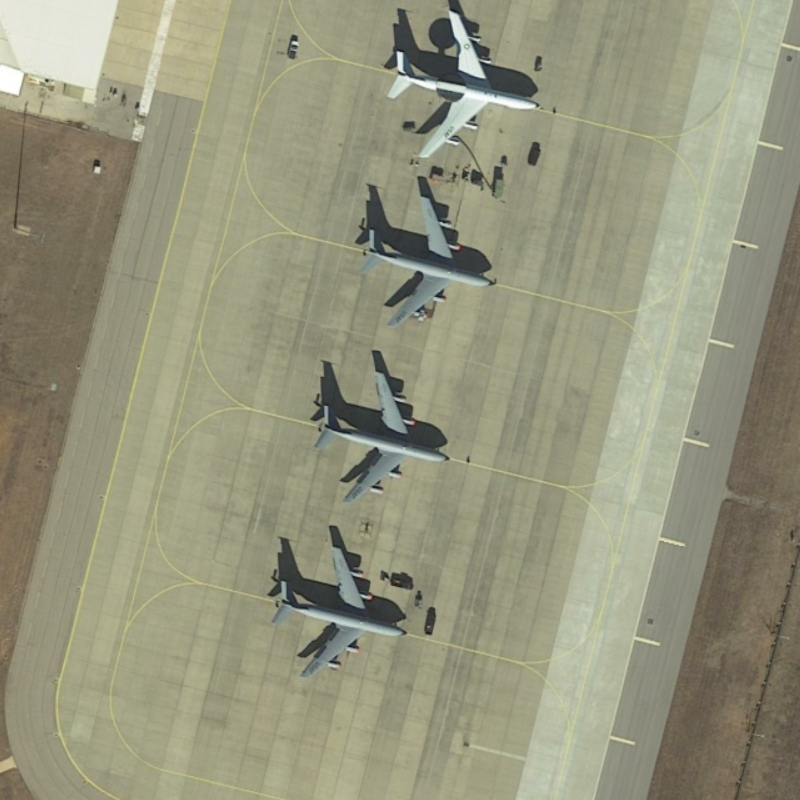A14: (258, 536, 420, 688), (348, 183, 499, 338), (309, 365, 454, 510)
A7: (379, 6, 547, 163)
